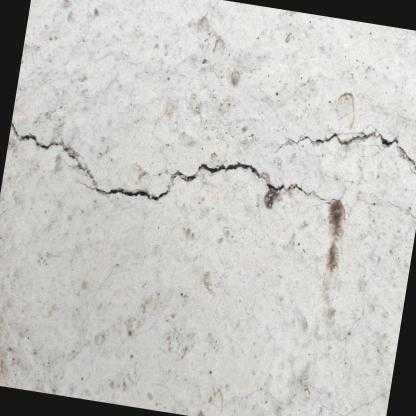crack: (10, 120, 306, 201), (278, 130, 416, 171)
